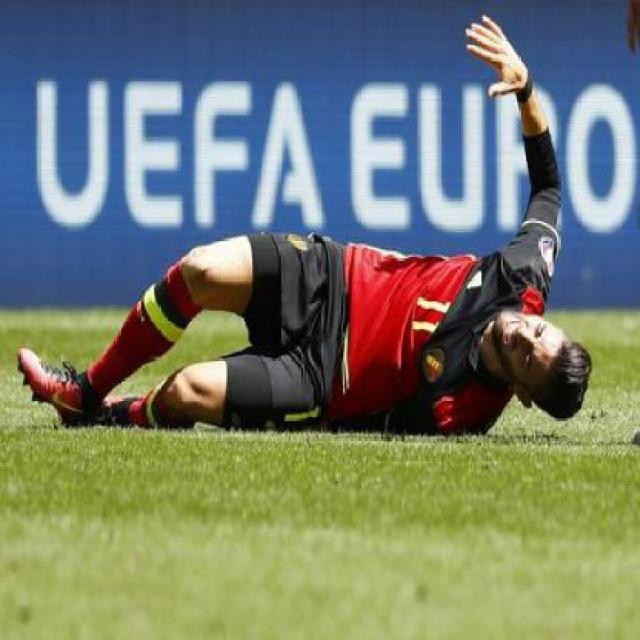fall: (29, 26, 593, 417)
